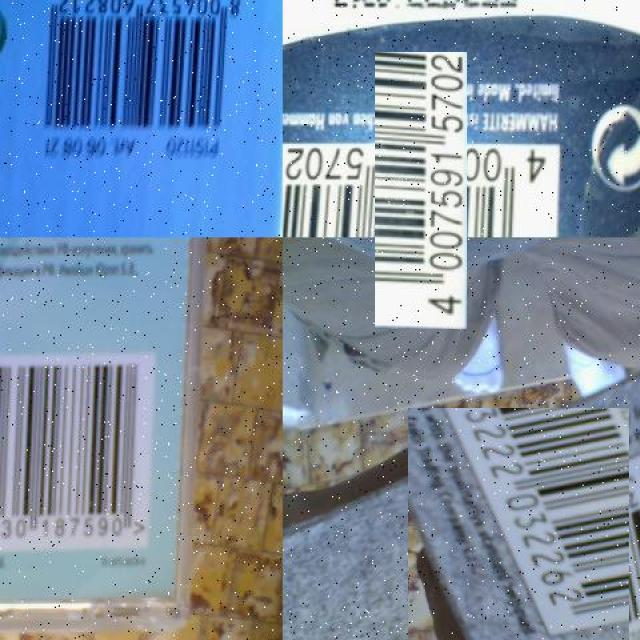Barcode: (402, 414, 635, 640), (329, 98, 514, 283), (0, 355, 154, 555), (24, 0, 244, 138)
